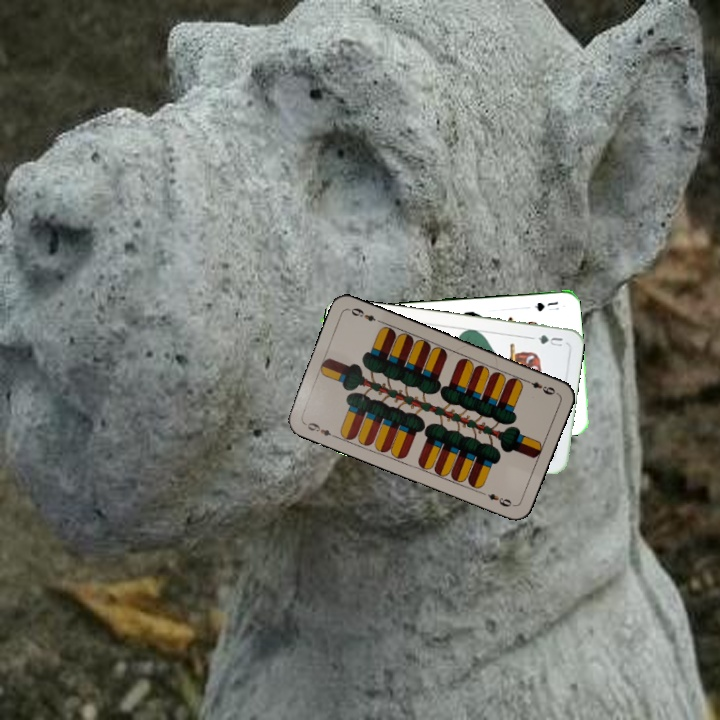E9: (300, 418, 339, 440), (521, 375, 558, 398)
GU: (534, 331, 565, 349), (530, 298, 560, 313)
